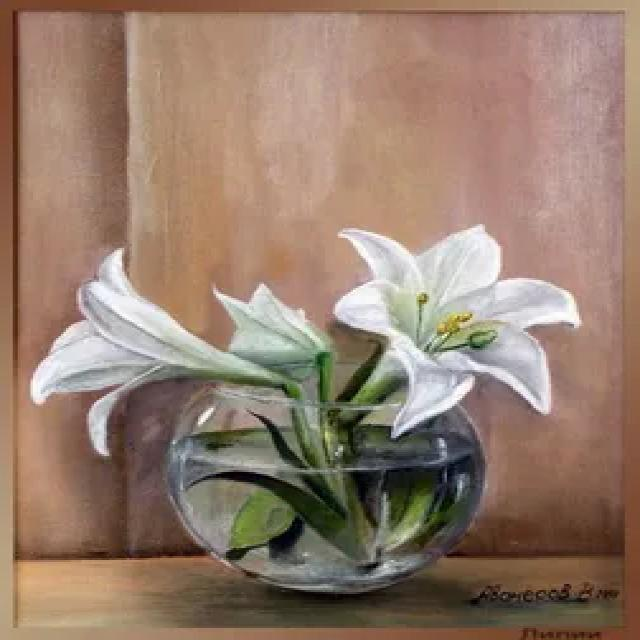lily: (321, 211, 589, 437), (18, 238, 234, 460)
